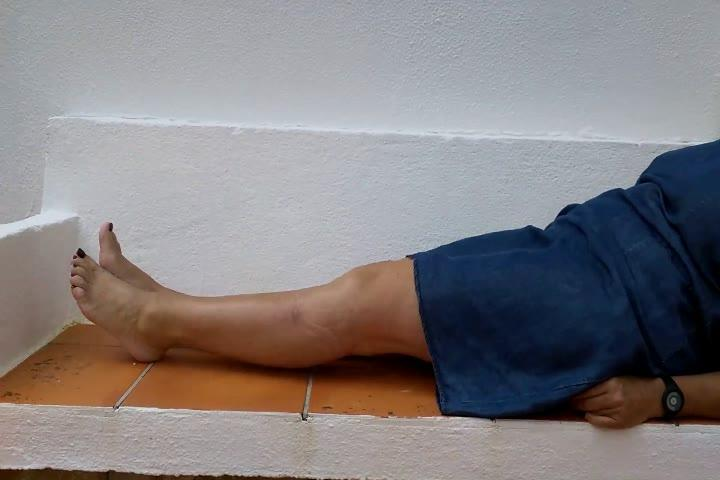lowerbody: (64, 213, 654, 412)
